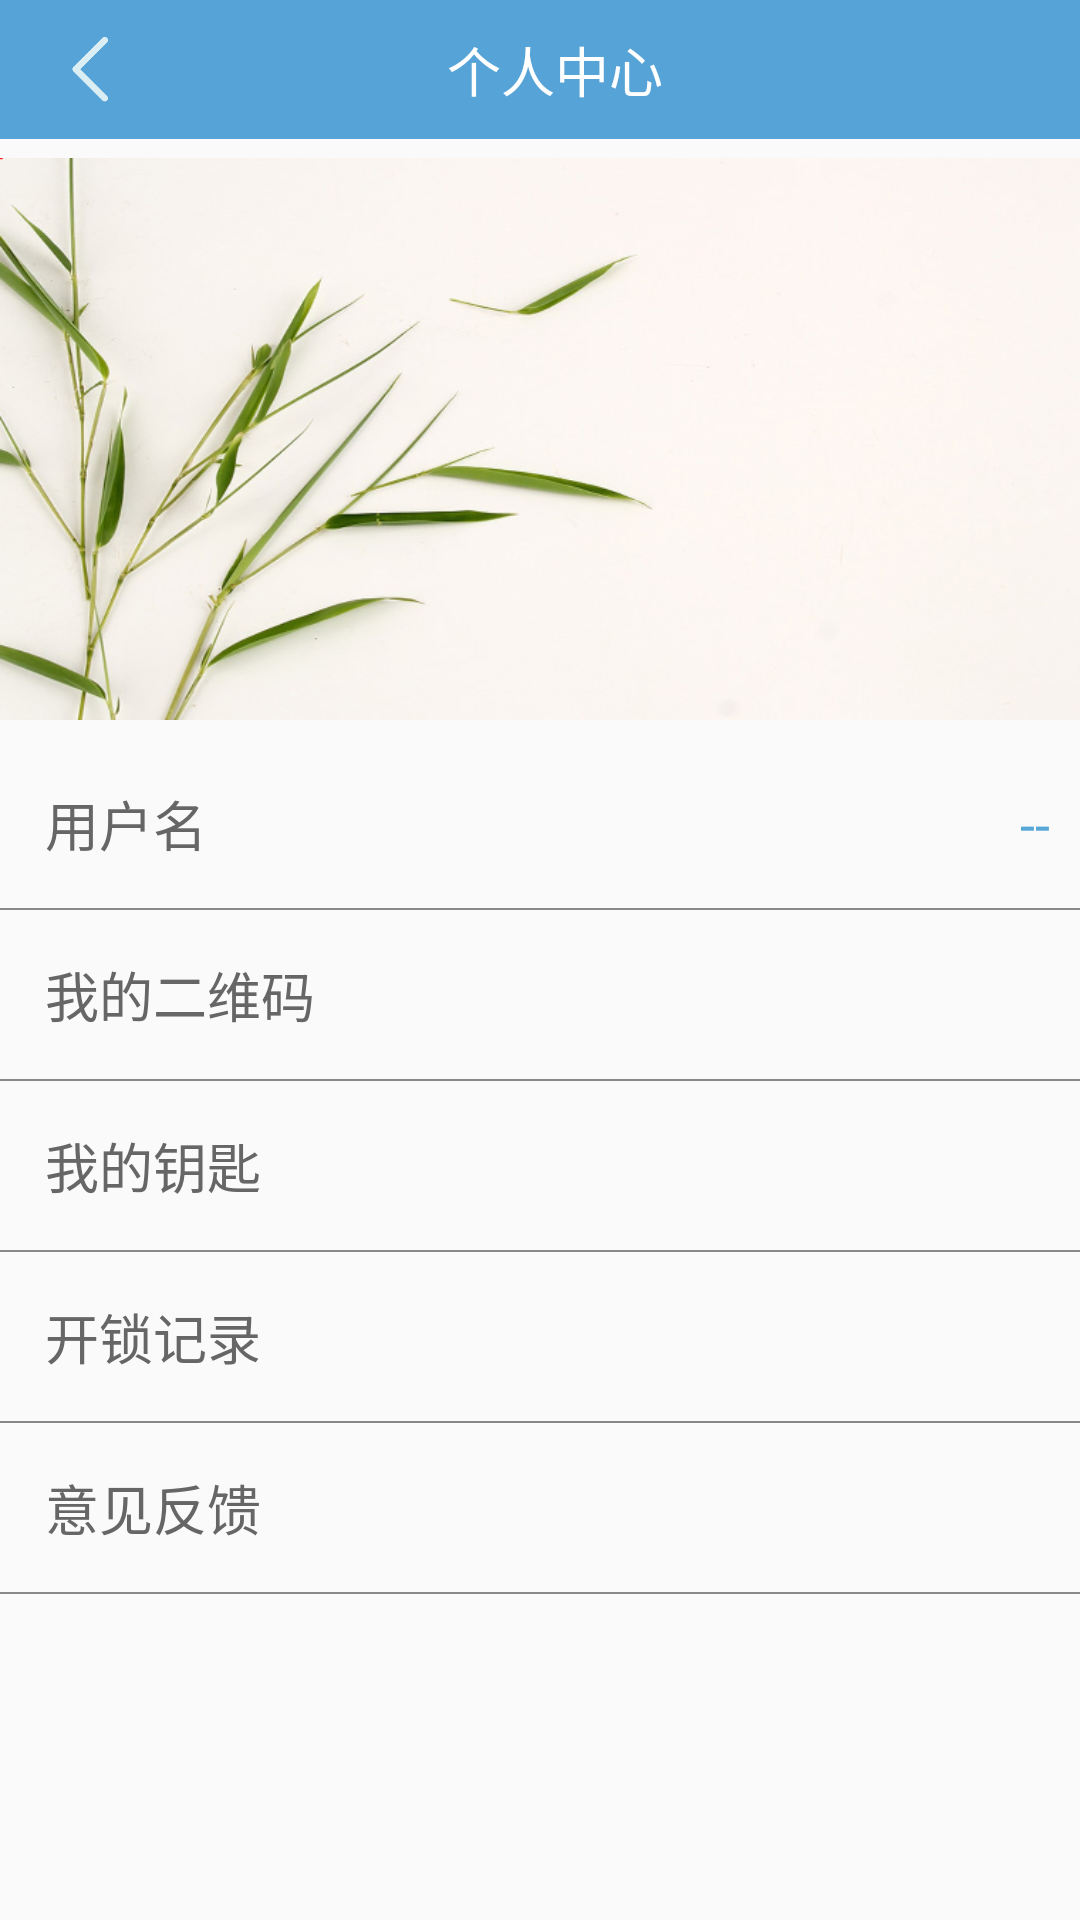

Locate icon controls on the screen. Image size 1080px×1920px, boxes as {"x1": x1, "y1": y1, "x2": x2, "y2": y2}.
lock main back: {"x1": 72, "y1": 37, "x2": 108, "y2": 102}
